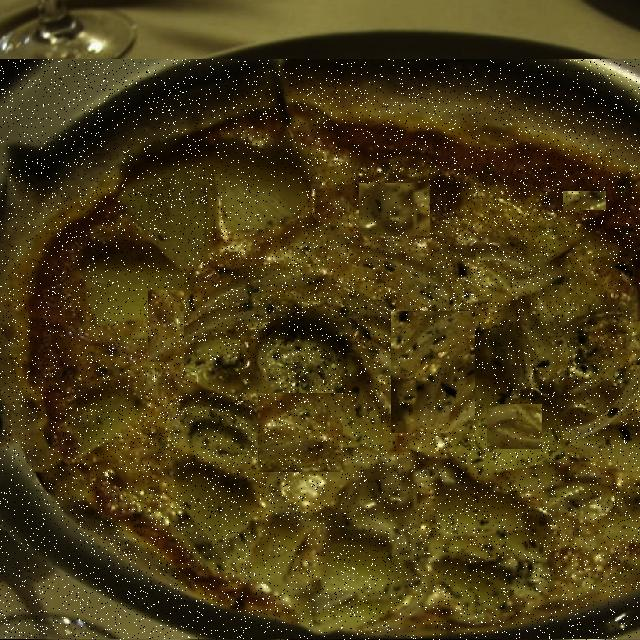Onions: (391, 311, 475, 433), (575, 266, 640, 373), (258, 393, 343, 472), (359, 183, 430, 236), (148, 290, 184, 362), (534, 323, 572, 391), (487, 404, 542, 449), (192, 361, 263, 392), (271, 180, 294, 230), (563, 191, 606, 210)
Pizza: (0, 59, 640, 640)
